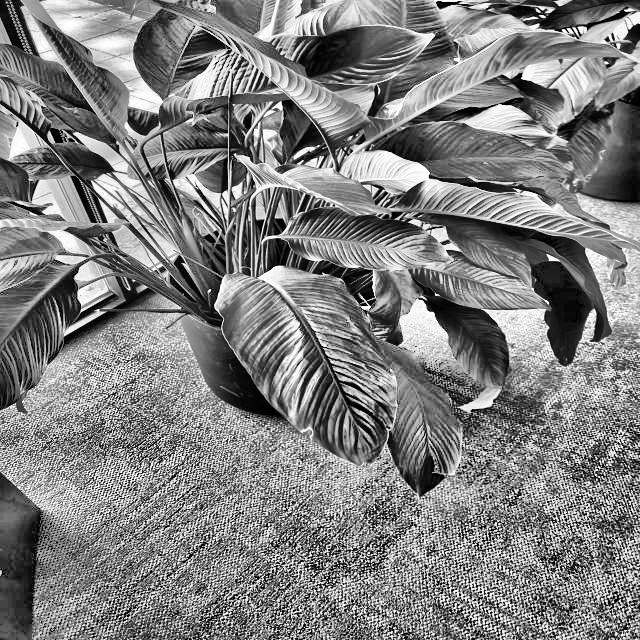plants: (62, 2, 479, 468)
